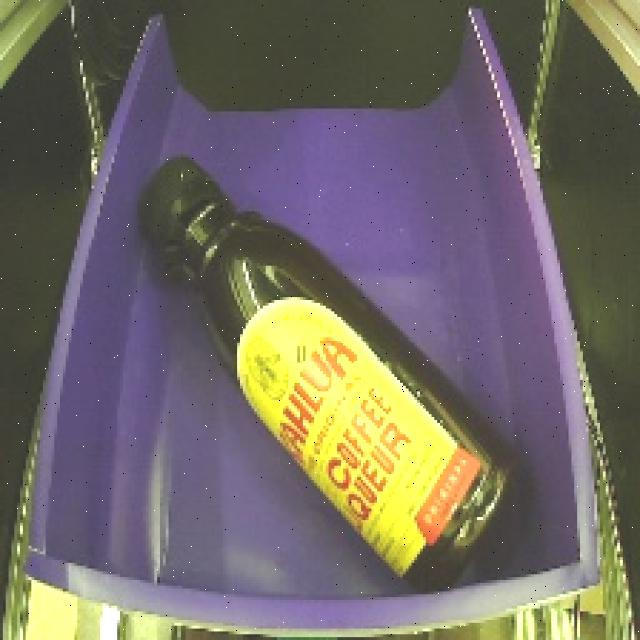plastic: (115, 134, 528, 604)
